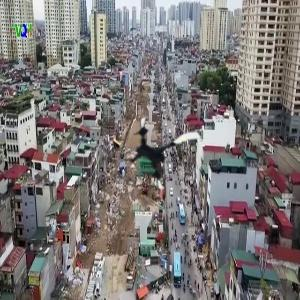drone: (122, 110, 207, 195)
